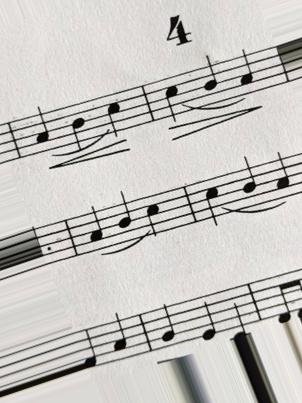A: (272, 150, 296, 198), (108, 315, 134, 359), (32, 104, 57, 149), (81, 207, 109, 246), (235, 49, 258, 94)
B: (235, 156, 262, 207), (112, 191, 137, 242), (199, 53, 224, 102), (65, 106, 93, 149)
E: (194, 296, 221, 341)
G: (151, 302, 183, 342)
HC: (159, 78, 187, 123), (200, 183, 224, 230), (103, 96, 127, 141), (141, 196, 163, 241)
